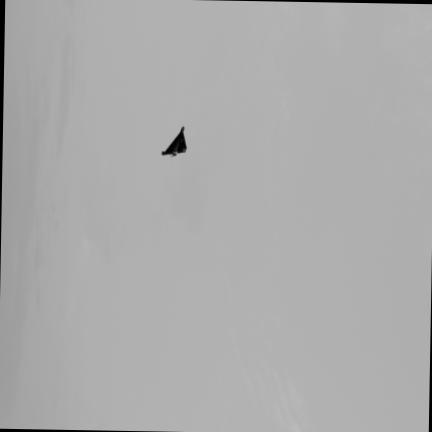Shahed: (161, 127, 185, 156)
